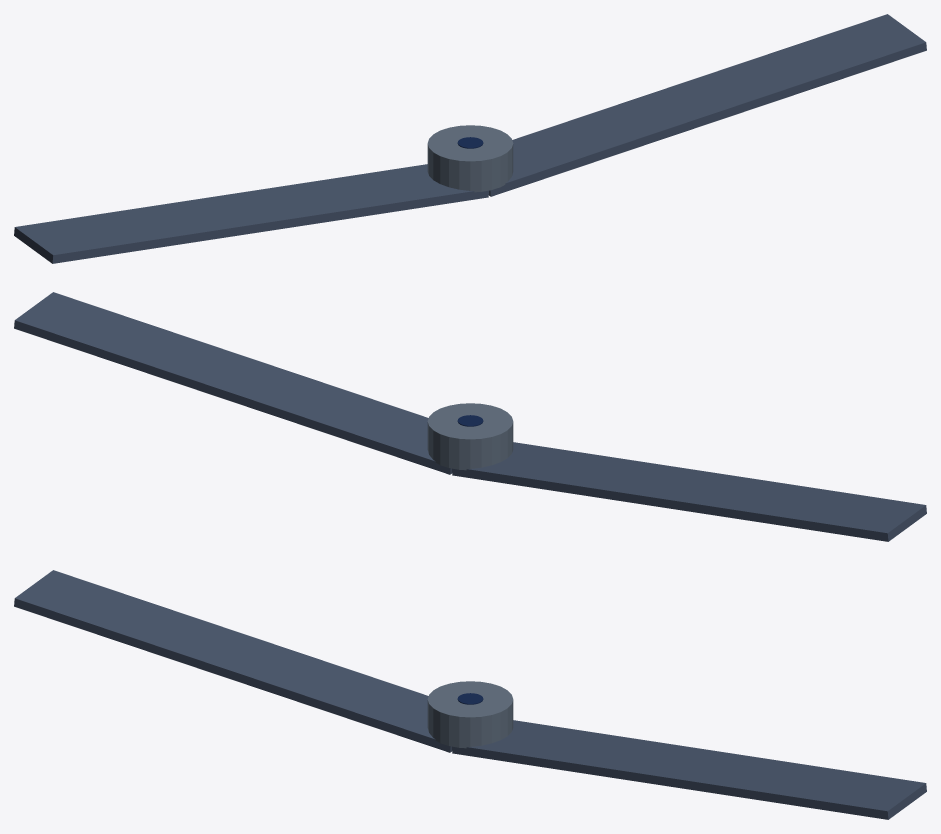
File: propeller-ep-1045-two-blade.glb
3 renders of one model, top to bottom at view 1: azimuth 30°, elevation 25°; view 2: azimuth 150°, elevation 25°; view 3: azimuth 330°, elevation 25°, orthographic.
Parts seen in each view (by area): view 1: propeller-ep-1045-two-blade_mesh; view 2: propeller-ep-1045-two-blade_mesh; view 3: propeller-ep-1045-two-blade_mesh.
Boxes of the visible parts, x1,y1,x2,y2 form: propeller-ep-1045-two-blade_mesh: (14, 14, 926, 263); propeller-ep-1045-two-blade_mesh: (14, 292, 926, 541); propeller-ep-1045-two-blade_mesh: (14, 570, 926, 819).
Size of the model in its own units: 236 by 12.48 by 20.
